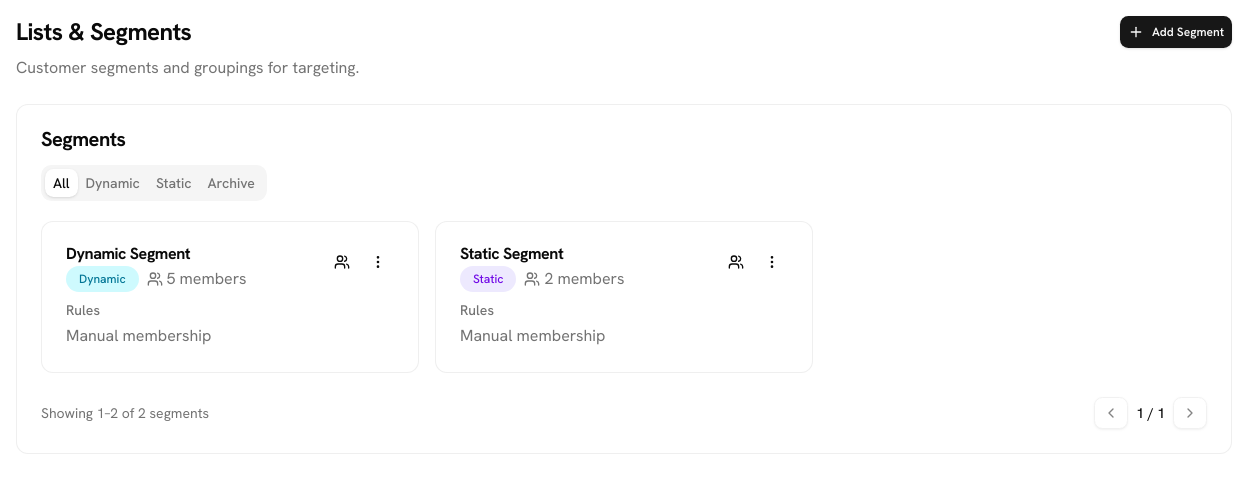
Test case: SegmentsListPage › filters segments by type and archive tab
Expected: the text "Dynamic Segment" is shown, [66, 243, 190, 264]
Expected: the text "Static Segment" is shown, [460, 243, 563, 264]
Note: Click "Dynamic" tab
Click the tab "Dynamic" at point(113, 183), box [78, 169, 148, 197]
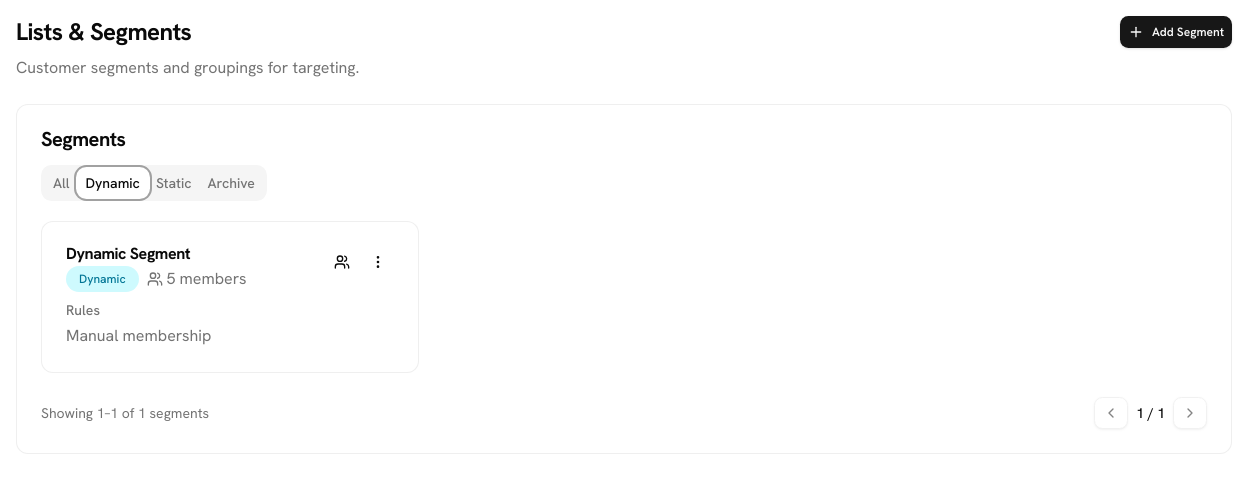
Expected: the text "Dynamic Segment" is shown, [66, 243, 190, 264]
Result: the text "Static Segment" is gone
Note: Click "Archive" tab
Click the tab "Archive" at point(231, 183), box [199, 169, 263, 197]
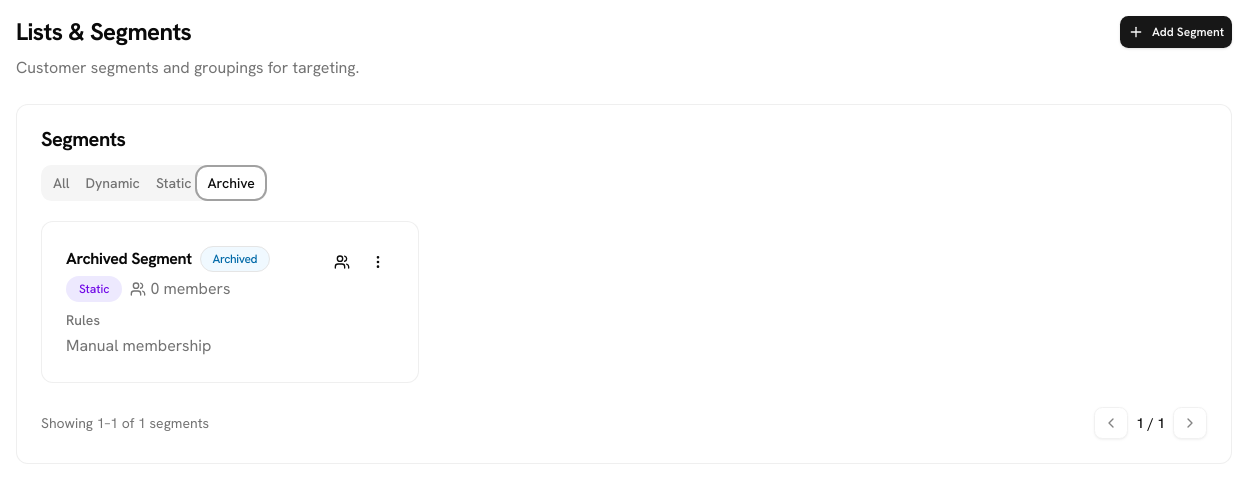
Result: the text "Archived Segment" is shown at [66, 248, 192, 269]
Result: the text "Dynamic Segment" is gone
